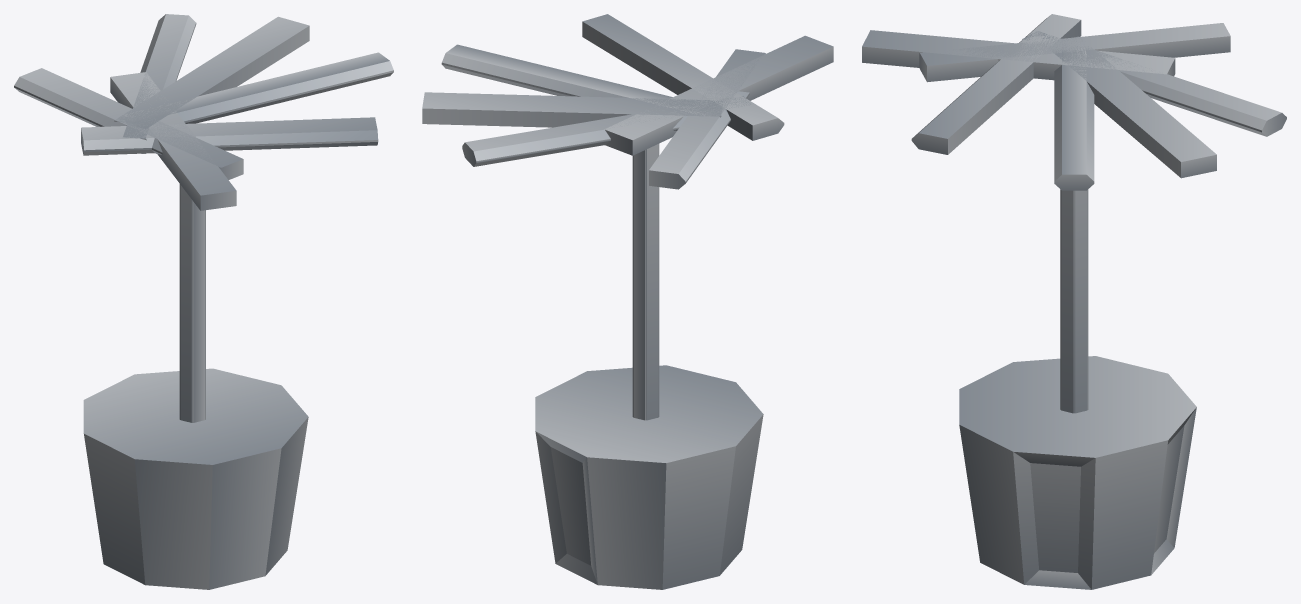
Rendered from dt_potted_palm.fbx.
3 views of the same model, side by side, from view 1: azimuth 30°, elevation 25°; view 2: azimuth 150°, elevation 25°; view 3: azimuth 270°, elevation 25° (orthographic). The views are drawn at different scales.
Parts seen in each view (by area): view 1: dt_potted_palm; view 2: dt_potted_palm; view 3: dt_potted_palm.
Boxes of the visible parts, <box> form: dt_potted_palm: <box>14,14,393,589</box>; dt_potted_palm: <box>422,14,833,589</box>; dt_potted_palm: <box>862,14,1286,589</box>.
Size of the model in its own units: 235 by 320 by 261.
